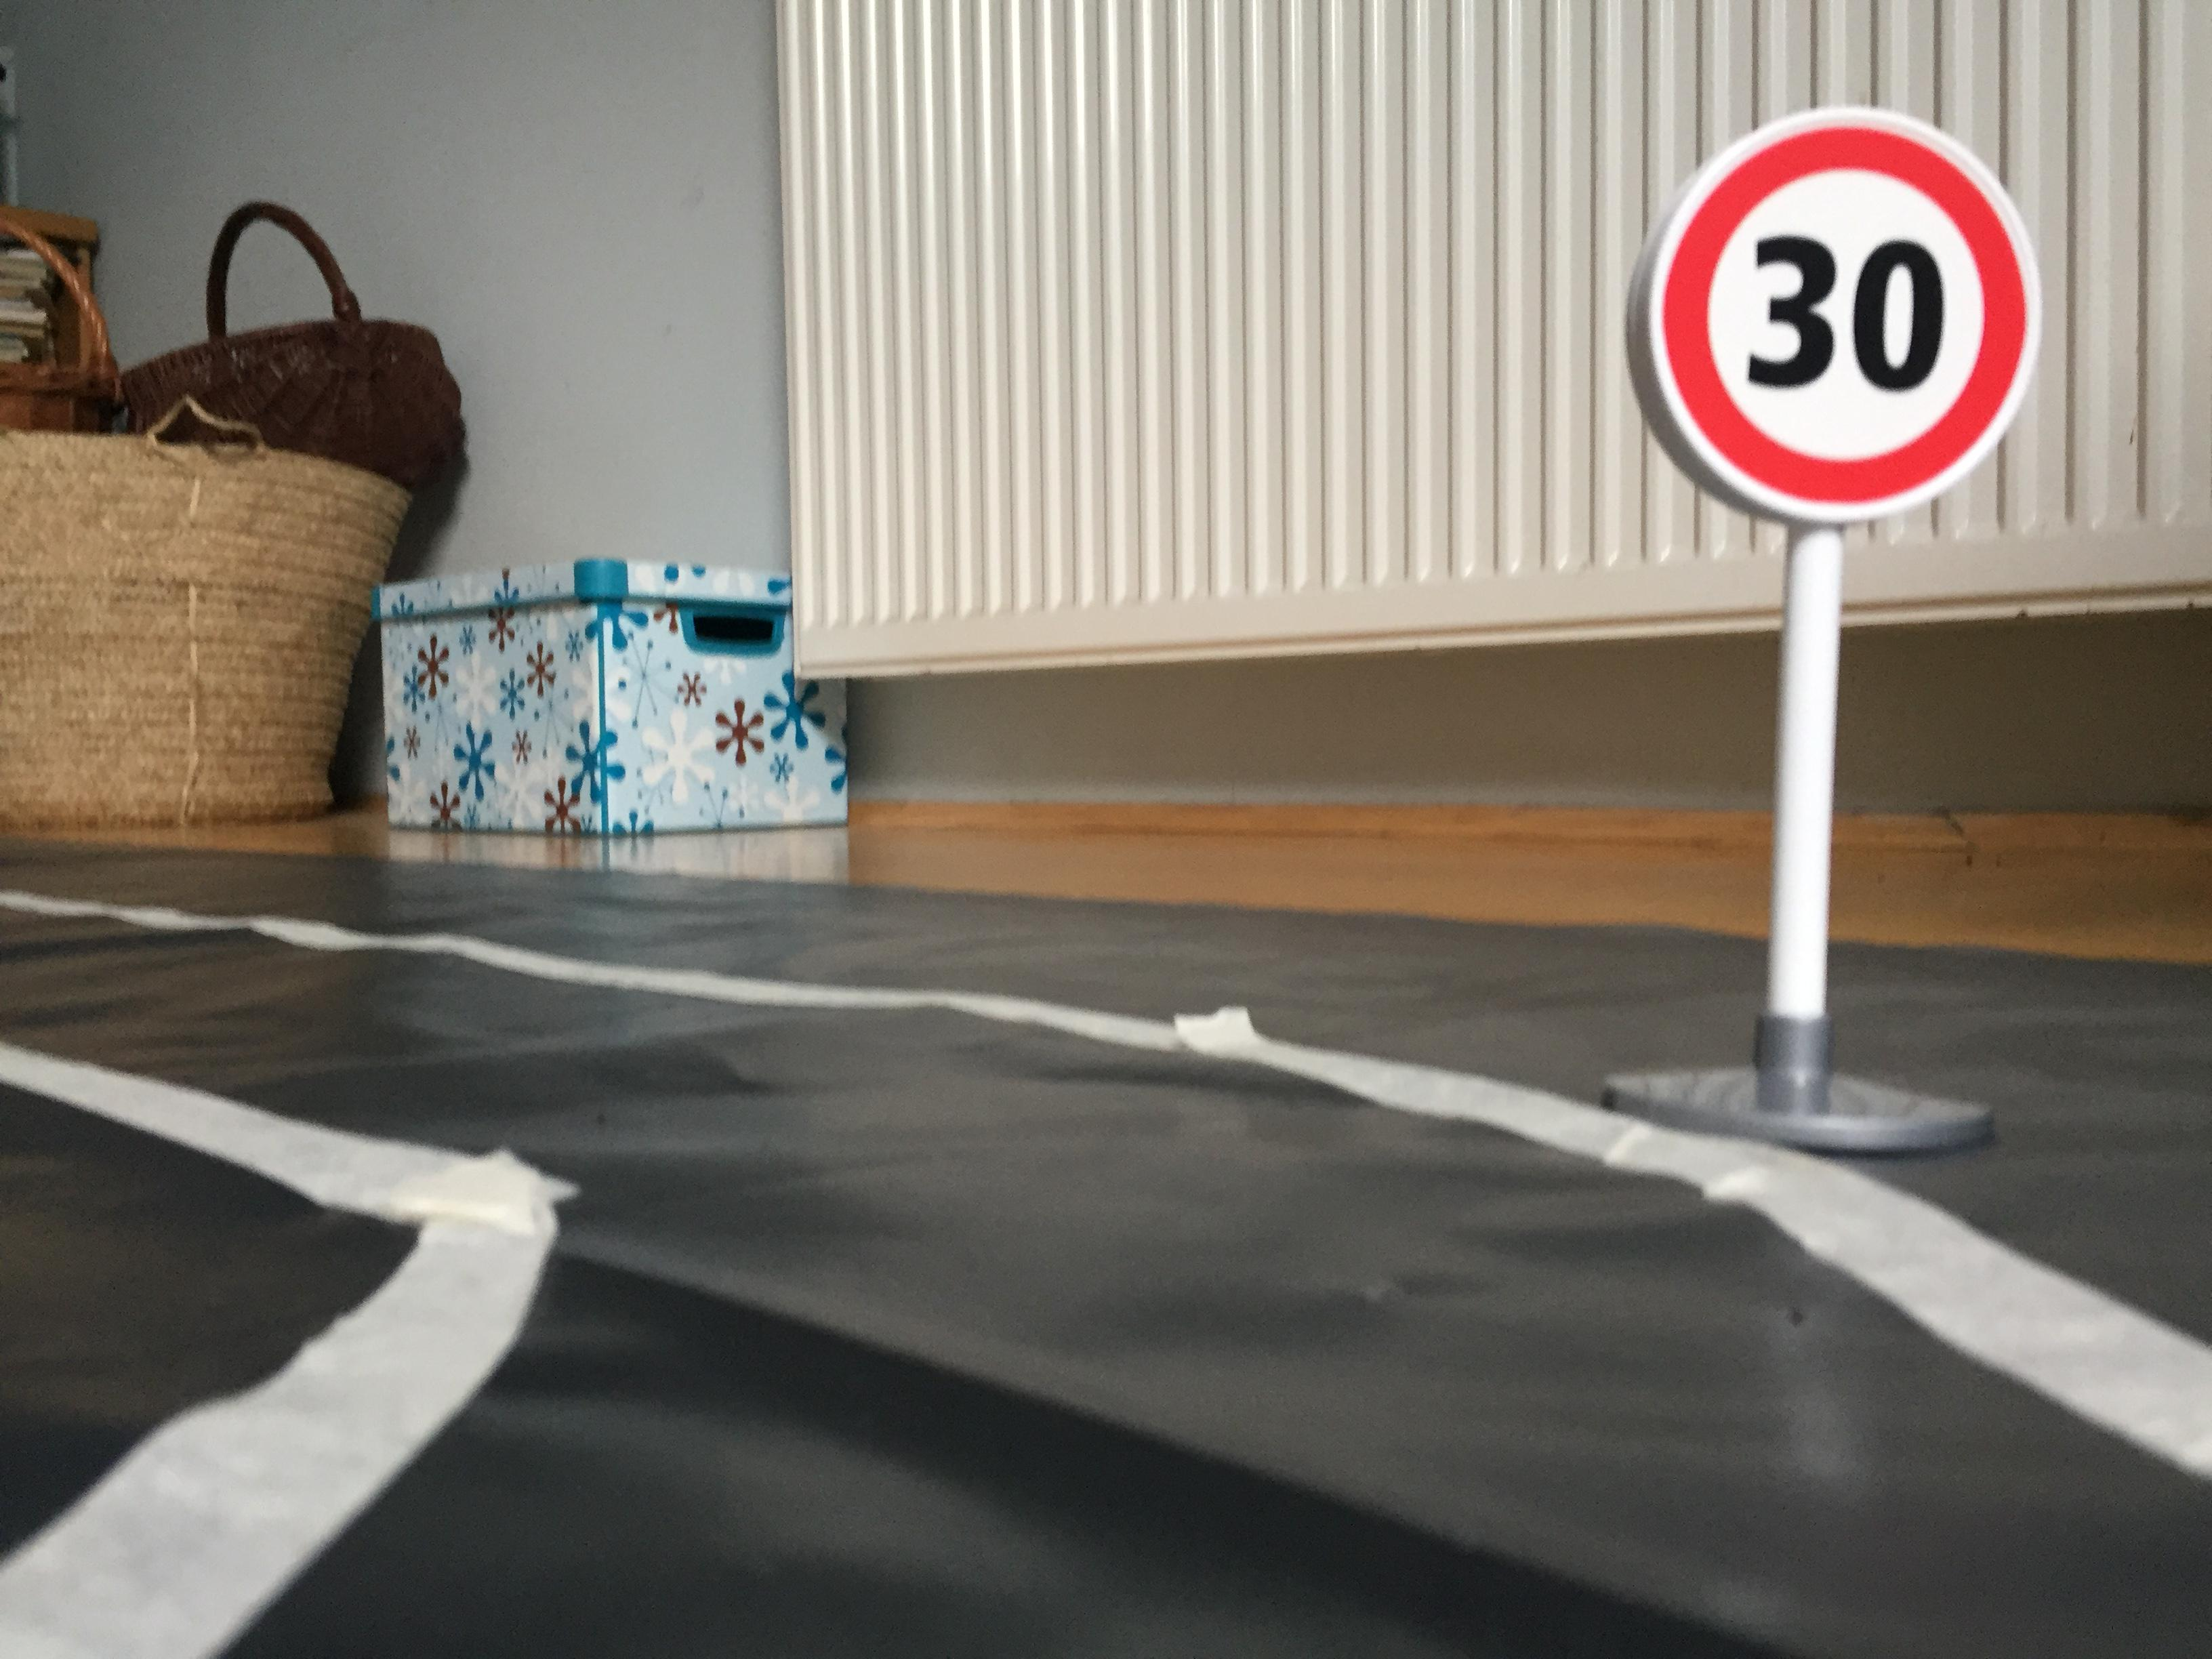speed: (1616, 101, 2071, 533)
